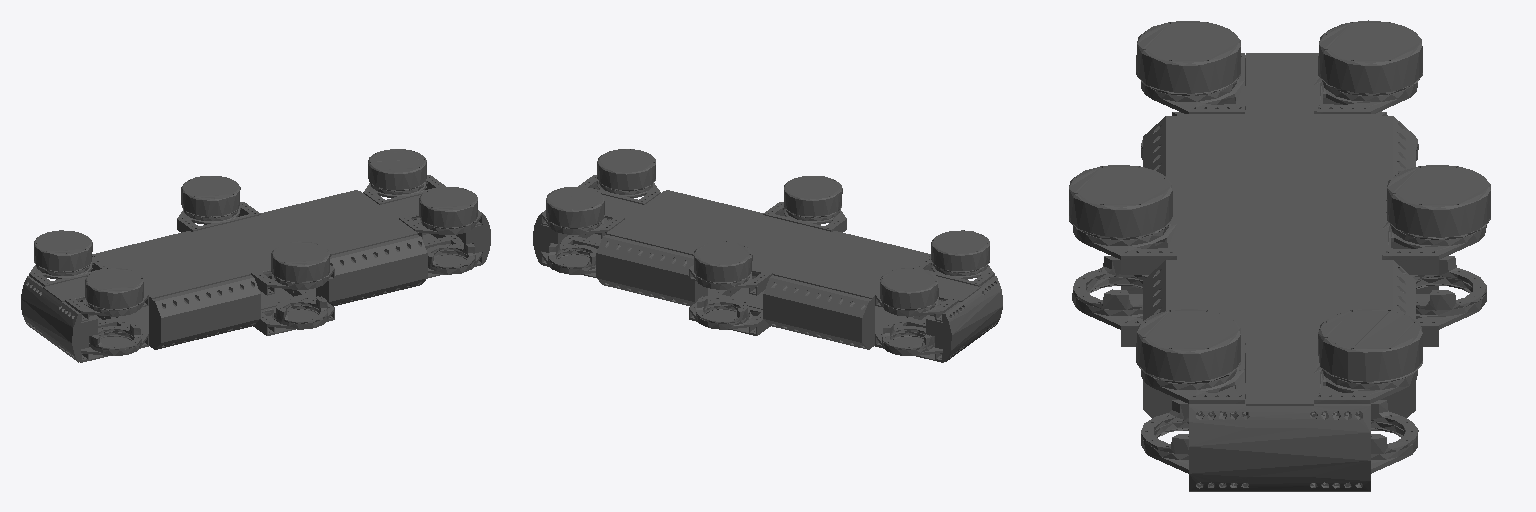
URDF robot description (elspider_air_base):
<?xml version="1.0" ?>
<!-- =================================================================================== -->
<!-- |    This document is a simplified version of el_mini.urdf with only the base     | -->
<!-- =================================================================================== -->
<robot name="elspider_air_base">
  <!-- root link can not have interia, so add this link and joint -->
  <link name="base">
    <visual>
      <origin rpy="0 0 0" xyz="0 0 0"/>
      <geometry>
        <box size="0.001 0.001 0.001"/>
      </geometry>
    </visual>
  </link>
  <joint name="floating_base" type="fixed">
    <origin rpy="0 0 0" xyz="0 0 0"/>
    <parent link="base"/>
    <child link="trunk"/>
  </joint>
  <link name="trunk">
    <inertial>
      <origin rpy="0 0 0" xyz="0.00000732 0.00000000 0.02428745"/>
      <mass value="15.8991"/>
      <inertia ixx="0.0926086" ixy="-1.892e-05" ixz="1.58e-06" iyy="0.47054913" iyz="0.0" izz="0.53896766"/>
    </inertial>
    <visual>
      <origin rpy="0 0 0" xyz="0 0 0"/>
      <geometry>
        <mesh filename="../meshes/BASE.STL"/>
      </geometry>
      <material name="default_material">
        <color rgba="0.4 0.4 0.4 1"/>
      </material>
    </visual>
    <collision>
      <origin rpy="0 0 0" xyz="0 0 0"/>
      <geometry>
        <mesh filename="../meshes/BASE.STL"/>
      </geometry>
    </collision>
  </link>
</robot> 

--- What the picture shows (computed from the rendered views, not written in the file) ---
3 views of the same robot in one strip: view 1: azimuth 30°, elevation 25°; view 2: azimuth 150°, elevation 25°; view 3: azimuth 270°, elevation 25° (orthographic).
Robot: elspider_air_base — 2 links, 1 joints (1 fixed); root link base; default pose: all joints at 0.
Links seen in each view (by area): view 1: trunk; view 2: trunk; view 3: trunk.
Boxes of the visible links, x1=… form: trunk: x1=21, y1=149, x2=490, y2=362; trunk: x1=533, y1=149, x2=1002, y2=362; trunk: x1=1069, y1=20, x2=1490, y2=491.
Size in the robot's own frame: 0.7539 by 0.3721 by 0.1287 metres.
Meshes: 1 distinct files referenced, 1 mesh visuals loaded (1 binary STL).